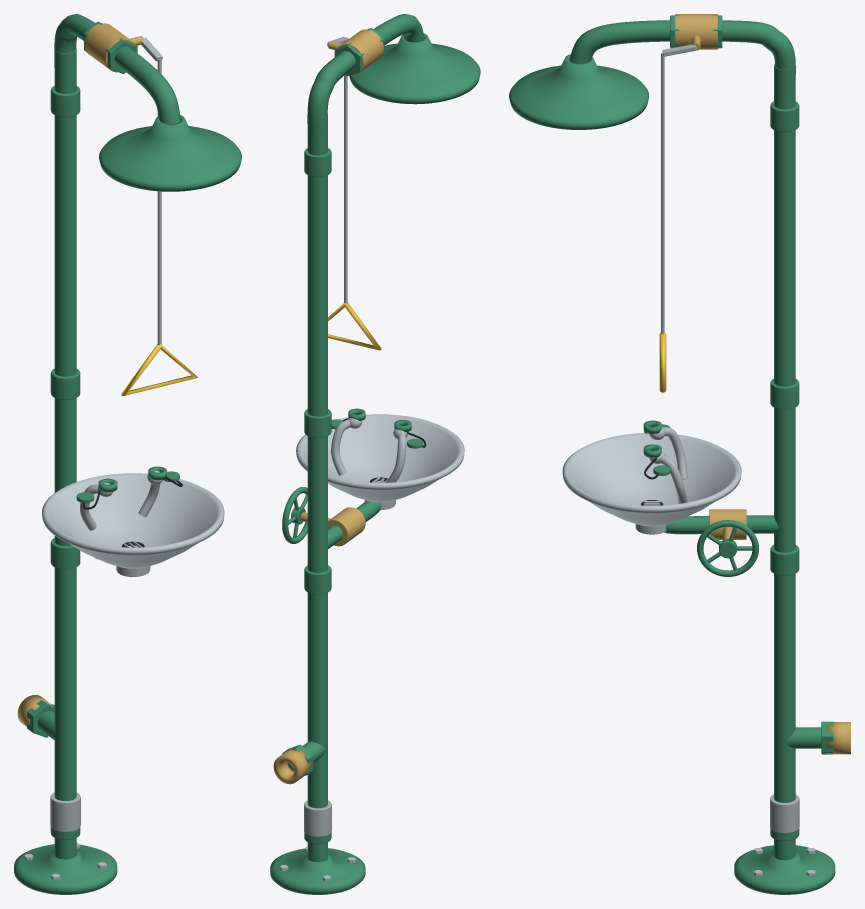
The model's file is city-emergency-eyewash-shower.glb.
The picture shows the model from 3 angles, left to right: view 1: azimuth 30°, elevation 25°; view 2: azimuth 150°, elevation 25°; view 3: azimuth 270°, elevation 25°; orthographic projection. The views are drawn at different scales.
Parts seen in each view (by area): view 1: Assembly | Deep green pipe enamel, Assembly | Satin stainless steel, Assembly | Brushed aluminium hardware, Assembly | Valve brass, Assembly | Yellow valve marker; view 2: Assembly | Deep green pipe enamel, Assembly | Satin stainless steel, Assembly | Brushed aluminium hardware, Assembly | Valve brass, Assembly | Yellow valve marker; view 3: Assembly | Deep green pipe enamel, Assembly | Satin stainless steel, Assembly | Brushed aluminium hardware, Assembly | Valve brass.
Part boxes in pixels (box(x1,y1,x2,y2)): Assembly | Deep green pipe enamel: box(14, 14, 241, 894); Assembly | Satin stainless steel: box(24, 473, 224, 880); Assembly | Brushed aluminium hardware: box(50, 37, 162, 831); Assembly | Valve brass: box(17, 23, 143, 726); Assembly | Yellow valve marker: box(121, 344, 197, 395); Assembly | Deep green pipe enamel: box(270, 14, 480, 894); Assembly | Satin stainless steel: box(279, 414, 464, 881); Assembly | Brushed aluminium hardware: box(304, 36, 407, 836); Assembly | Valve brass: box(273, 29, 383, 784); Assembly | Yellow valve marker: box(328, 302, 381, 350); Assembly | Deep green pipe enamel: box(509, 15, 835, 894); Assembly | Satin stainless steel: box(562, 433, 815, 876); Assembly | Brushed aluminium hardware: box(635, 44, 799, 833); Assembly | Valve brass: box(675, 14, 850, 754).
Bounding box in the file's own units: 0.432 × 2.29 × 0.8245.
